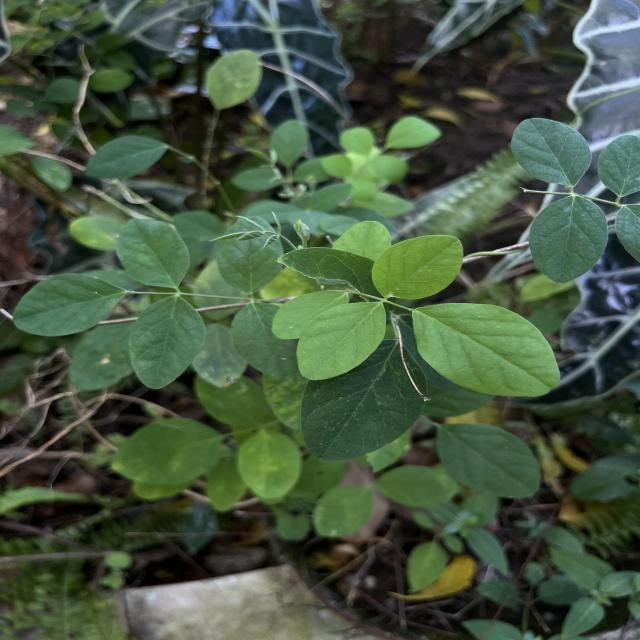Clitoria ternatea: (410, 302, 562, 398), (296, 300, 388, 382), (370, 234, 464, 301)
